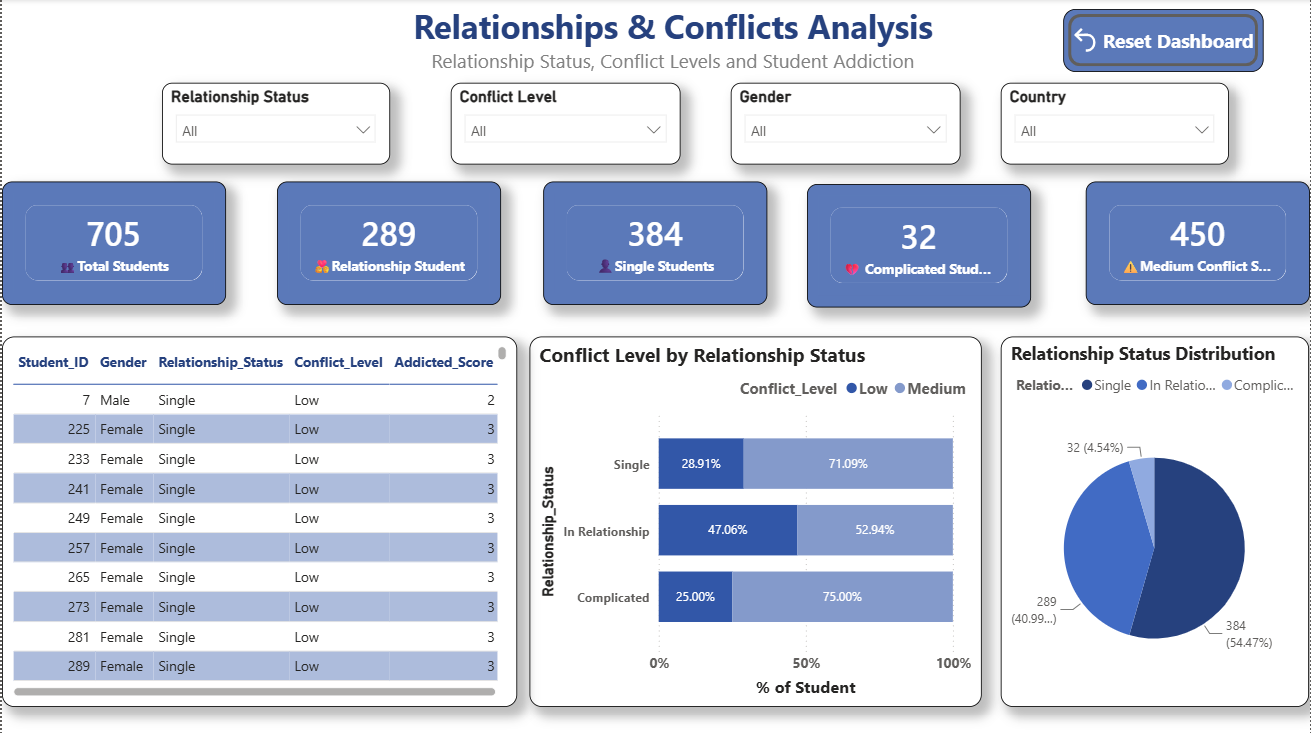

What the dashboard file says about the page in this screenshot:
{"tool":"powerbi","page":{"name":" Relationships and Conflicts ","canvas":[1280,720],"ordinal":3},"visuals":[{"type":"hundredPercentStackedBarChart","title":"Conflict Level by Relationship Status","fields":{"Category":["Student Details.Relationship_Status"],"Series":["Student Details.Conflict_Level"],"Y":["CountNonNull(Platform Details.Student_ID)"]},"box":[515.7,330.2,442.6,362.6],"z":0},{"type":"tableEx","fields":{"Values":["Student Details.Student_ID","Student Details.Gender","Student Details.Relationship_Status","Student Details.Conflict_Level","Student Details.Addicted_Score"]},"box":[0,330.2,503.8,362.6],"z":1000},{"type":"pieChart","title":"Relationship Status Distribution","fields":{"Category":["Student Details.Relationship_Status"],"Y":["CountNonNull(Platform Details.Student_ID)"]},"box":[977,330.2,301.3,362.6],"z":2000},{"type":"textbox","box":[293.7,0,725.9,82.3],"z":3000},{"type":"slicer","title":"Relationship Status","fields":{"Values":["Student Details.Relationship_Status"]},"box":[156.6,81.7,223,80],"z":4000},{"type":"slicer","title":"Conflict Level","fields":{"Values":["Student Details.Conflict_Level"]},"box":[439.1,81.7,224.7,80],"z":5000},{"type":"slicer","title":"Gender","fields":{"Values":["Student Details.Gender"]},"box":[713.2,81.7,224.7,80],"z":6000},{"type":"slicer","title":"Country","fields":{"Values":["Student Details.Country"]},"box":[977,81.7,223,80],"z":7000},{"type":"actionButton","box":[1038.3,10.2,195.7,61.3],"z":8000},{"type":"cardVisual","fields":{"Data":["_Measures.Students in Relationship"]},"box":[268.9,178.7,219.6,120.9],"z":9000},{"type":"cardVisual","fields":{"Data":["_Measures.Single Students"]},"box":[529.4,178.7,219.6,120.9],"z":10000},{"type":"cardVisual","fields":{"Data":["_Measures.💔 Complicated Students"]},"box":[788.1,180.4,219.6,120.9],"z":11000},{"type":"cardVisual","fields":{"Data":["_Measures.Medium Conflict Students"]},"box":[1060.4,178.7,219.6,120.9],"z":12000},{"type":"cardVisual","fields":{"Data":["_Measures.Total_Students"]},"box":[0,178.7,219.6,120.9],"z":13000}]}

Visuals, with their boxes in screenshot pixels (x1, y1, x2, y2), scaled from the page's 1280x720 canvas onto the 1311x733 screenshot:
"Conflict Level by Relationship Status" hundredPercentStackedBarChart: locate(528, 336, 982, 705)
tableEx - Student Details.Student_ID x Student Details.Gender: locate(0, 336, 516, 705)
"Relationship Status Distribution" pieChart: locate(1001, 336, 1309, 705)
textbox: locate(301, 0, 1044, 84)
"Relationship Status" slicer: locate(160, 83, 389, 165)
"Conflict Level" slicer: locate(450, 83, 680, 165)
"Gender" slicer: locate(730, 83, 961, 165)
"Country" slicer: locate(1001, 83, 1229, 165)
actionButton: locate(1063, 10, 1264, 73)
cardVisual - _Measures.Students in Relationship: locate(275, 182, 500, 305)
cardVisual - _Measures.Single Students: locate(542, 182, 767, 305)
cardVisual - _Measures.💔 Complicated Students: locate(807, 184, 1032, 307)
cardVisual - _Measures.Medium Conflict Students: locate(1086, 182, 1310, 305)
cardVisual - _Measures.Total_Students: locate(0, 182, 225, 305)
